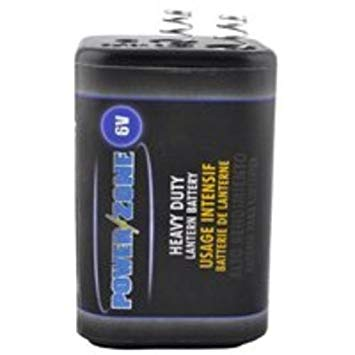6V: (56, 9, 278, 349)
